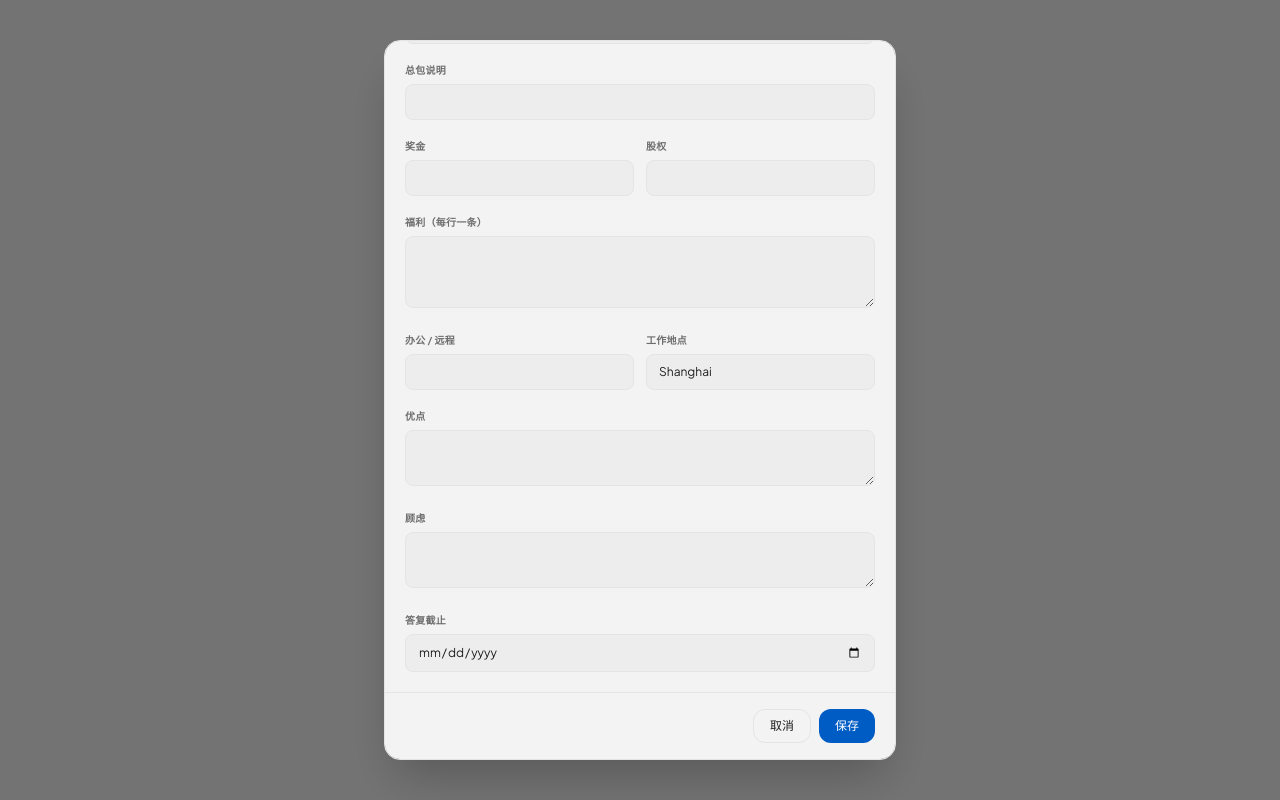
Test case: OfferEditModal › shows offer save errors instead of closing the modal
(page scrolled)
Click the button "保存": (847, 726) left=819, top=709, right=875, bottom=743
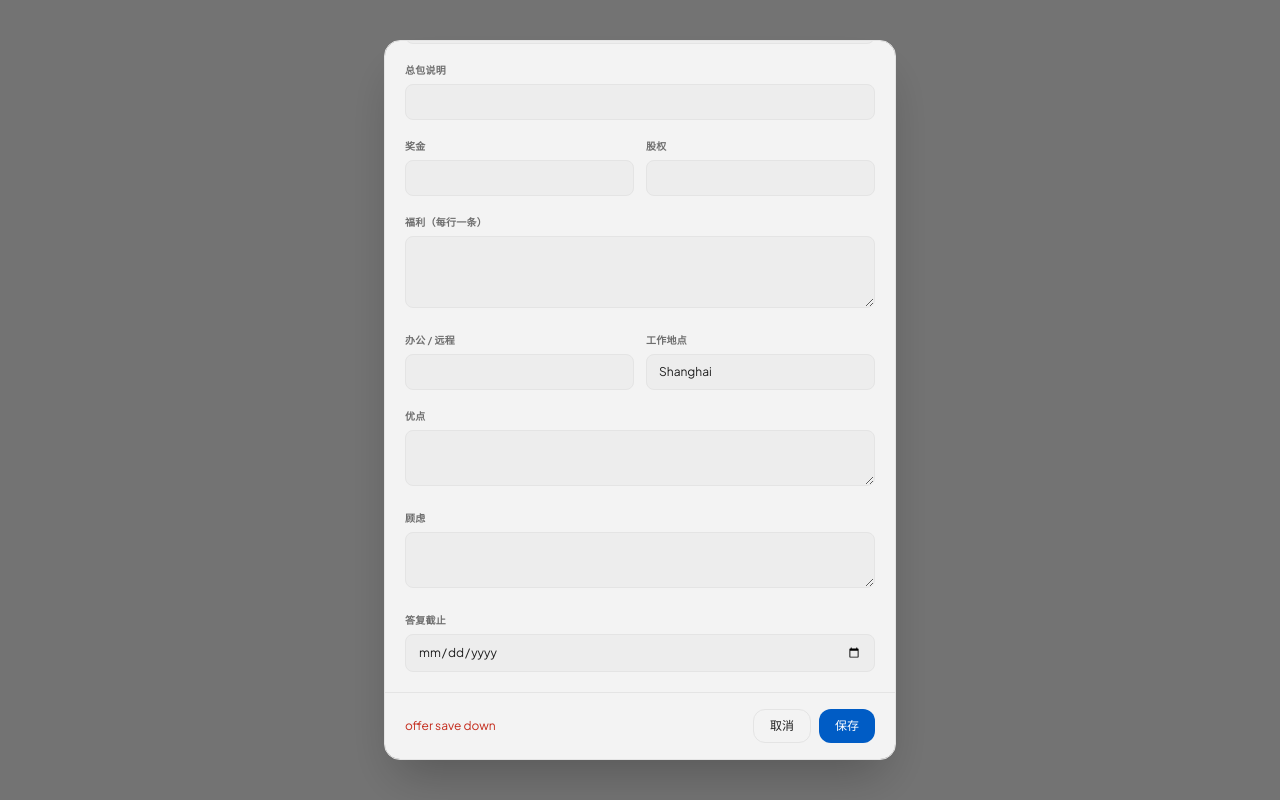
Expected: the message reads "offer save down", left=405, top=718, right=496, bottom=733
